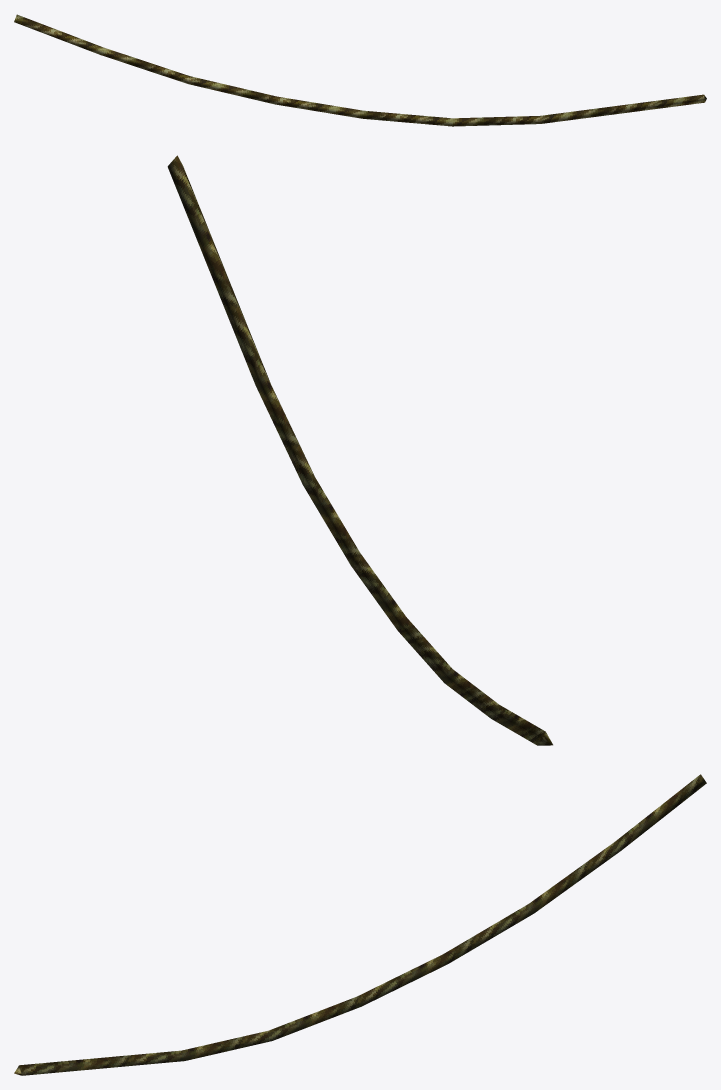
Rendered from OVERHILL_A_01_ROPE_01.fbx.
3 renders of one model, top to bottom at view 1: azimuth 30°, elevation 25°; view 2: azimuth 150°, elevation 25°; view 3: azimuth 270°, elevation 25°, orthographic. The views are drawn at different scales.
Visible parts, largest first — view 1: OVERHILL_A_01_ROPE_01; view 2: OVERHILL_A_01_ROPE_01; view 3: OVERHILL_A_01_ROPE_01.
Boxes of the visible parts, bbox=[...] form: OVERHILL_A_01_ROPE_01: bbox=[14, 14, 706, 126]; OVERHILL_A_01_ROPE_01: bbox=[167, 155, 552, 745]; OVERHILL_A_01_ROPE_01: bbox=[14, 774, 706, 1075].
Bounding box in the file's own units: 30256 × 4156 × 30256.
1 material, 1 textured.
